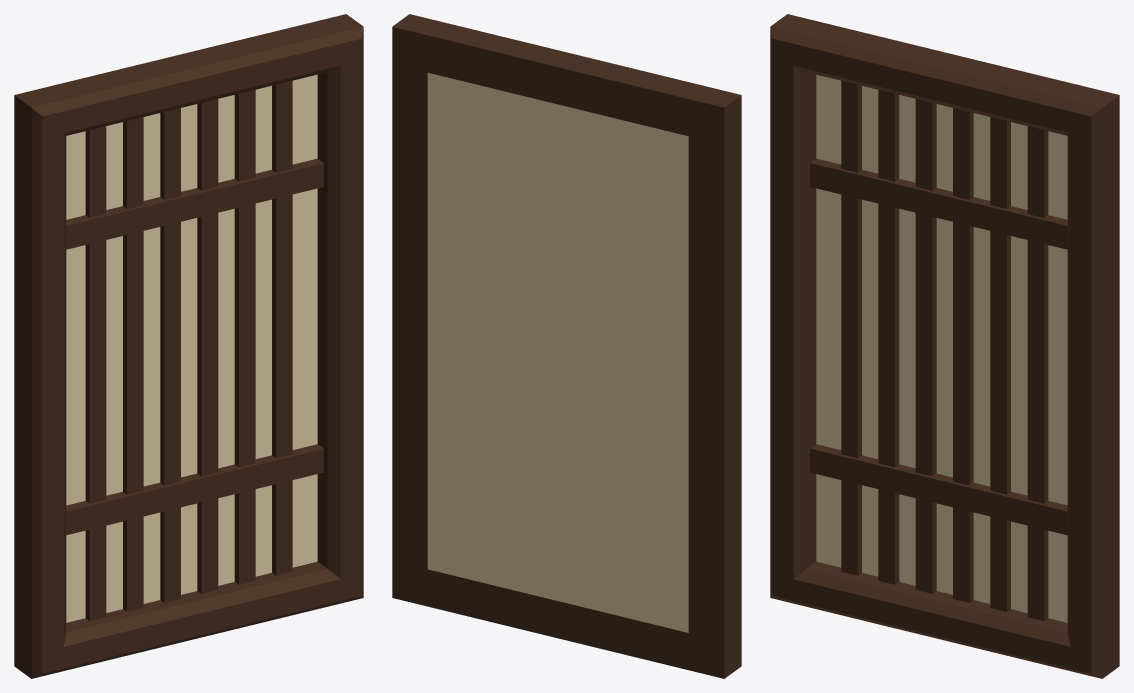
Rendered from rw_window.glb.
3 renders of one model, left to right at view 1: azimuth 30°, elevation 25°; view 2: azimuth 150°, elevation 25°; view 3: azimuth 330°, elevation 25°, orthographic.
Parts seen in each view (by area): view 1: rw_window__wood_dark, rw_window__win_paper; view 2: rw_window__win_paper, rw_window__wood_dark; view 3: rw_window__wood_dark, rw_window__win_paper.
Boxes of the visible parts, bbox=[...] form: rw_window__wood_dark: bbox=[14, 14, 363, 678]; rw_window__win_paper: bbox=[66, 74, 317, 622]; rw_window__win_paper: bbox=[427, 73, 688, 632]; rw_window__wood_dark: bbox=[392, 14, 741, 678]; rw_window__wood_dark: bbox=[770, 14, 1119, 678]; rw_window__win_paper: bbox=[816, 74, 1067, 622].
Size of the model in its own units: 14 by 23 by 1.6.
